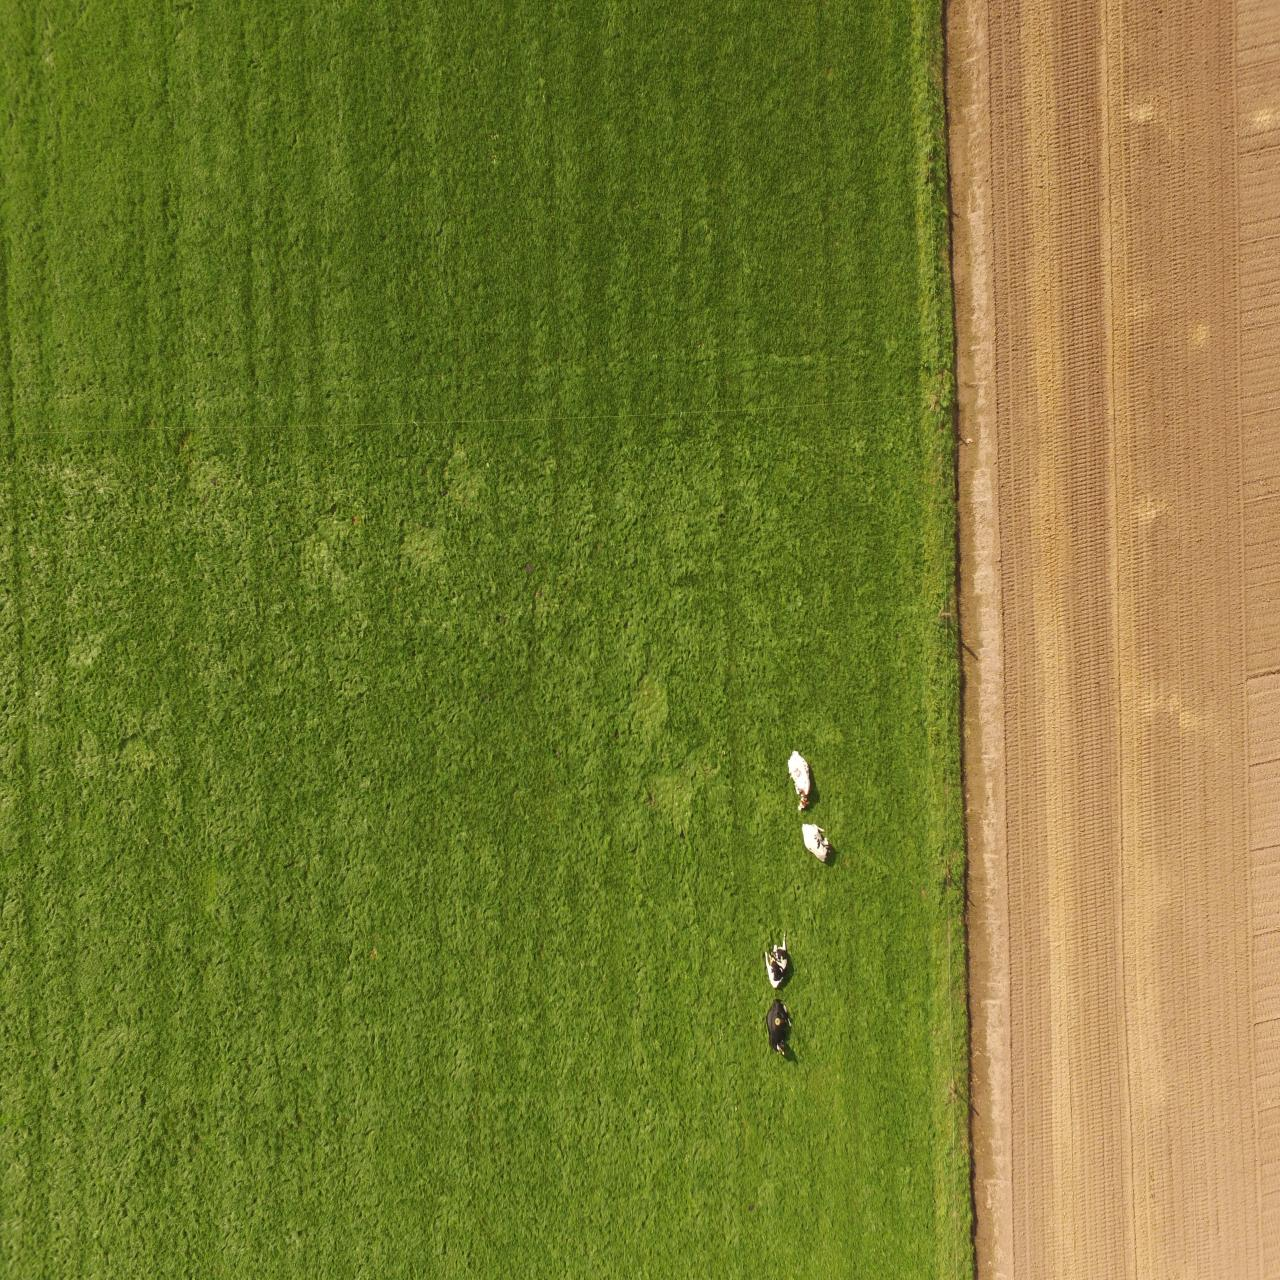cow: (763, 995, 794, 1061), (760, 932, 794, 991), (784, 745, 813, 813), (798, 818, 833, 867)
